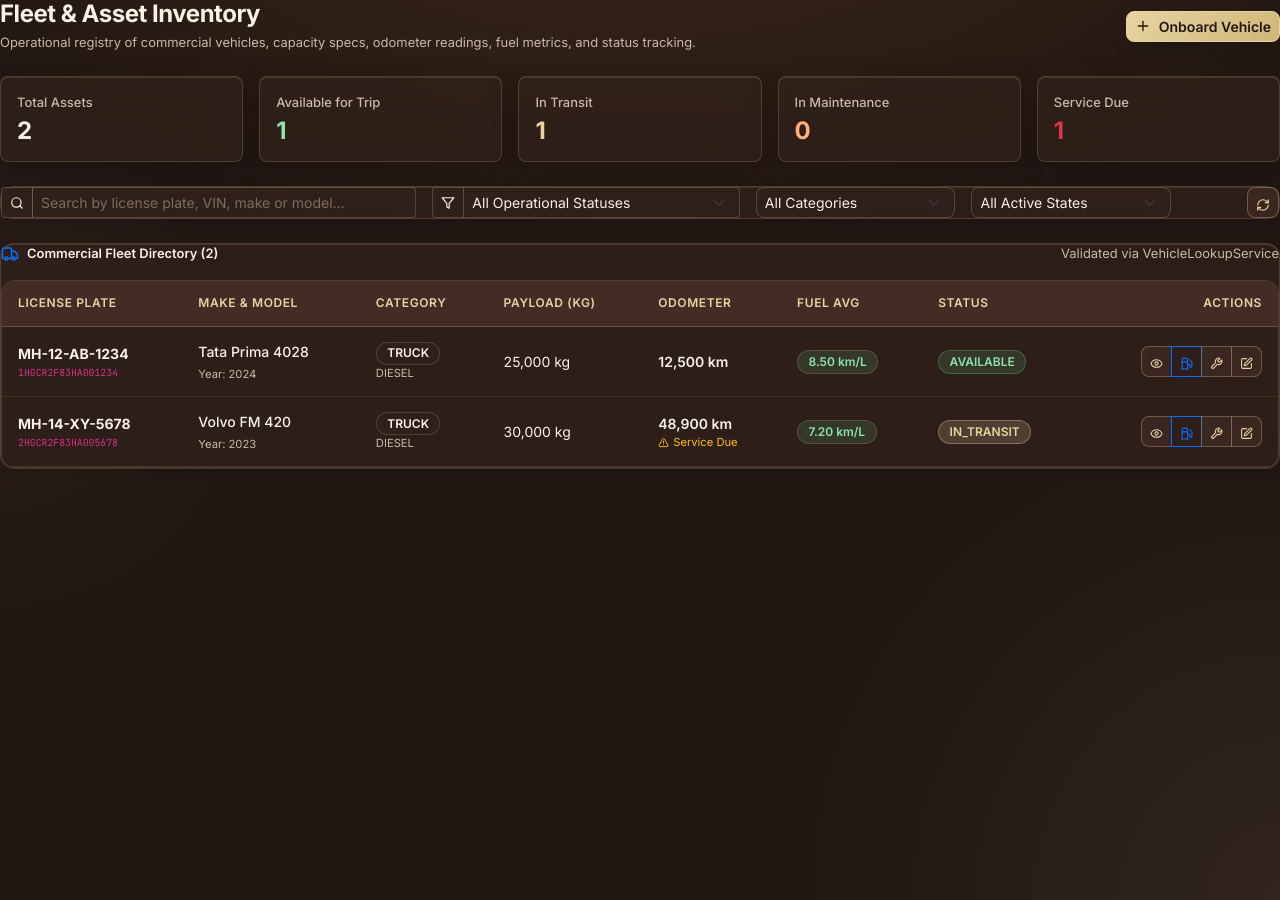
it: Fleet & Asset Management Frontend Components › VehiclesPage › opens Onboard Vehicle modal when Onboard Vehicle button is clicked
This screenshot has width=1280, height=900.
Expected: the text "MH-12-AB-1234" is shown, [18,345,129,362]
Click the button "Onboard Vehicle".
click(1203, 26)  # box [1126,11,1279,42]
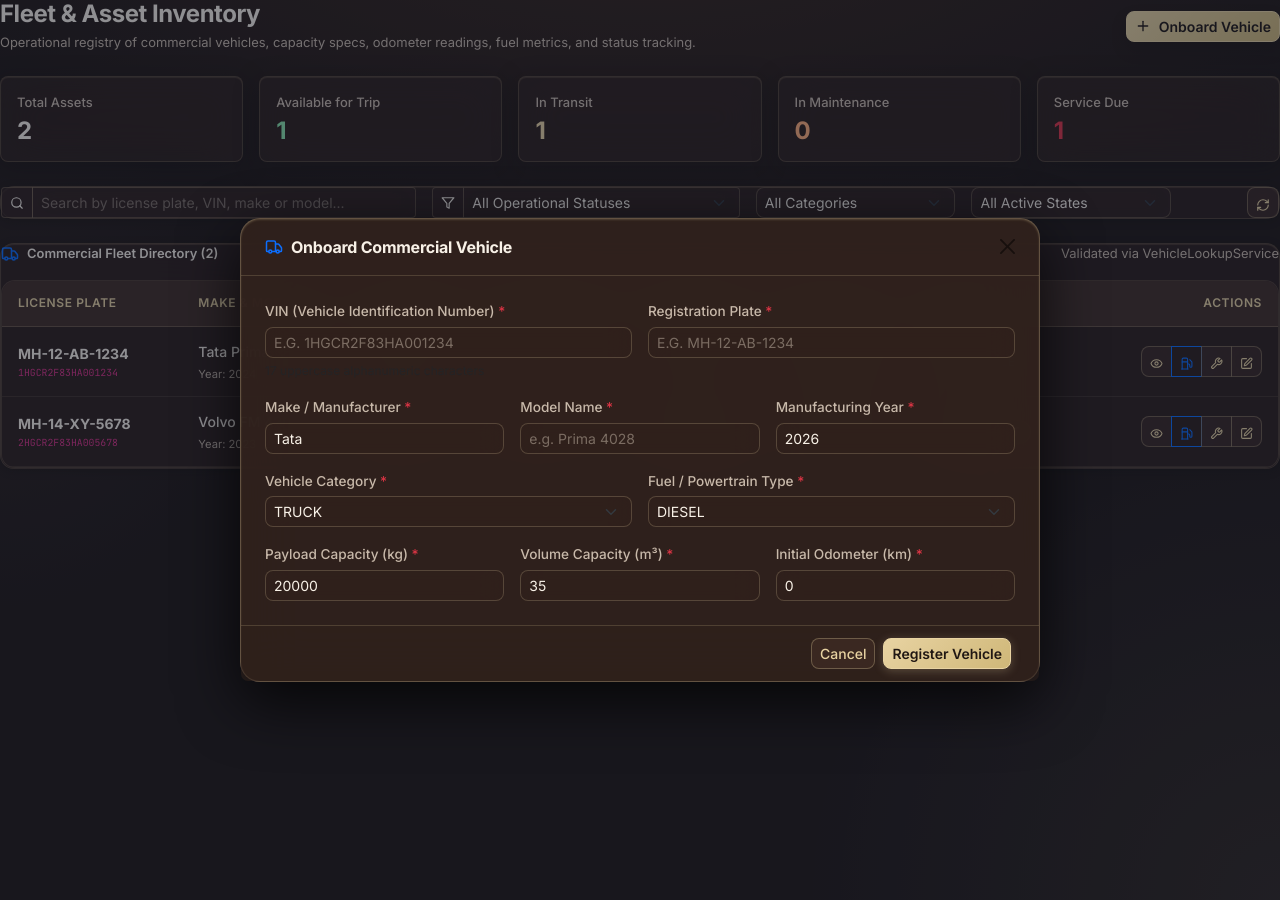
Expected: the heading "Onboard Commercial Vehicle" is shown, [265,234,512,258]
Expected: the field labelled "VIN (Vehicle Identification Number) *" is shown, [265,326,632,358]
